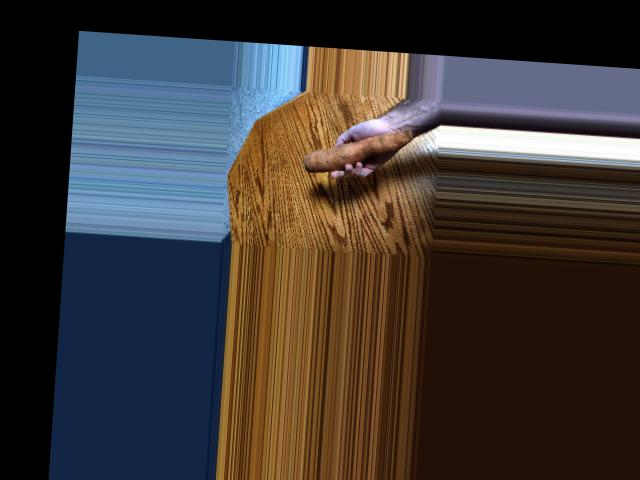sweet_potato: (301, 122, 410, 180)
